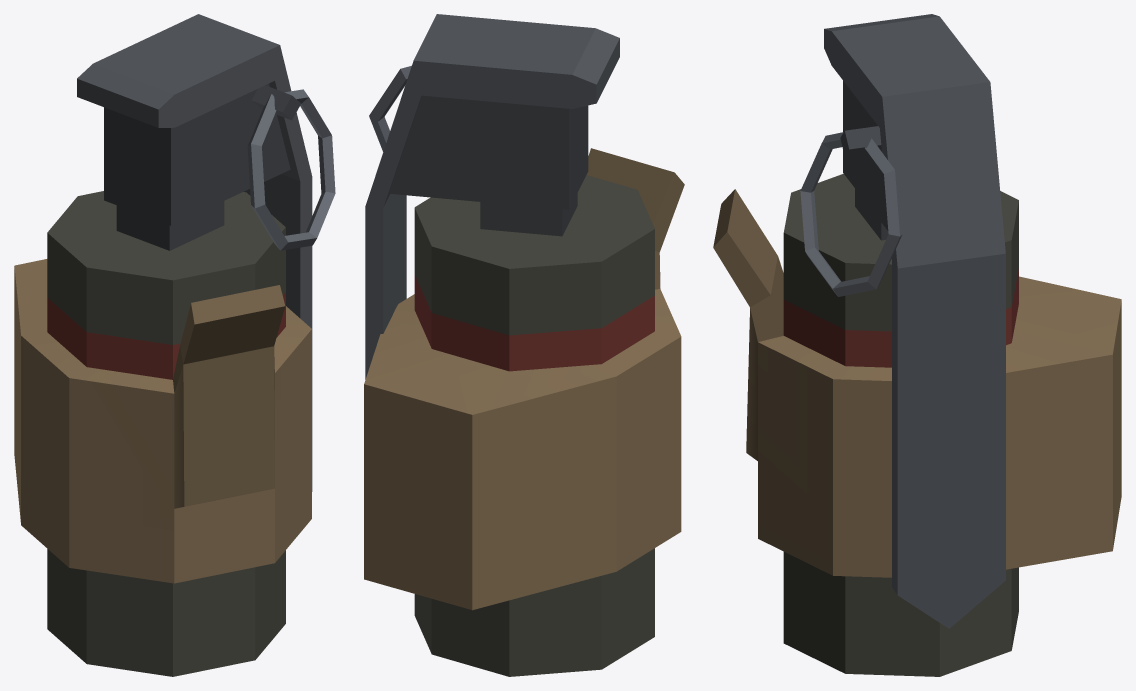
The model's file is SM_Chr_Attach_Grenade_Smoke_01.fbx.
3 views of the same model, side by side, from view 1: azimuth 30°, elevation 25°; view 2: azimuth 150°, elevation 25°; view 3: azimuth 270°, elevation 25° (orthographic). The views are drawn at different scales.
Parts seen in each view (by area): view 1: SM_Chr_Attach_Grenade_Smoke_01; view 2: SM_Chr_Attach_Grenade_Smoke_01; view 3: SM_Chr_Attach_Grenade_Smoke_01.
Boxes of the visible parts, box(x1,y1,x2,y2) form: SM_Chr_Attach_Grenade_Smoke_01: box(14, 14, 335, 676); SM_Chr_Attach_Grenade_Smoke_01: box(364, 14, 684, 676); SM_Chr_Attach_Grenade_Smoke_01: box(713, 14, 1121, 676).
Bounding box in the file's own units: 8.81 × 16.81 × 10.68.
